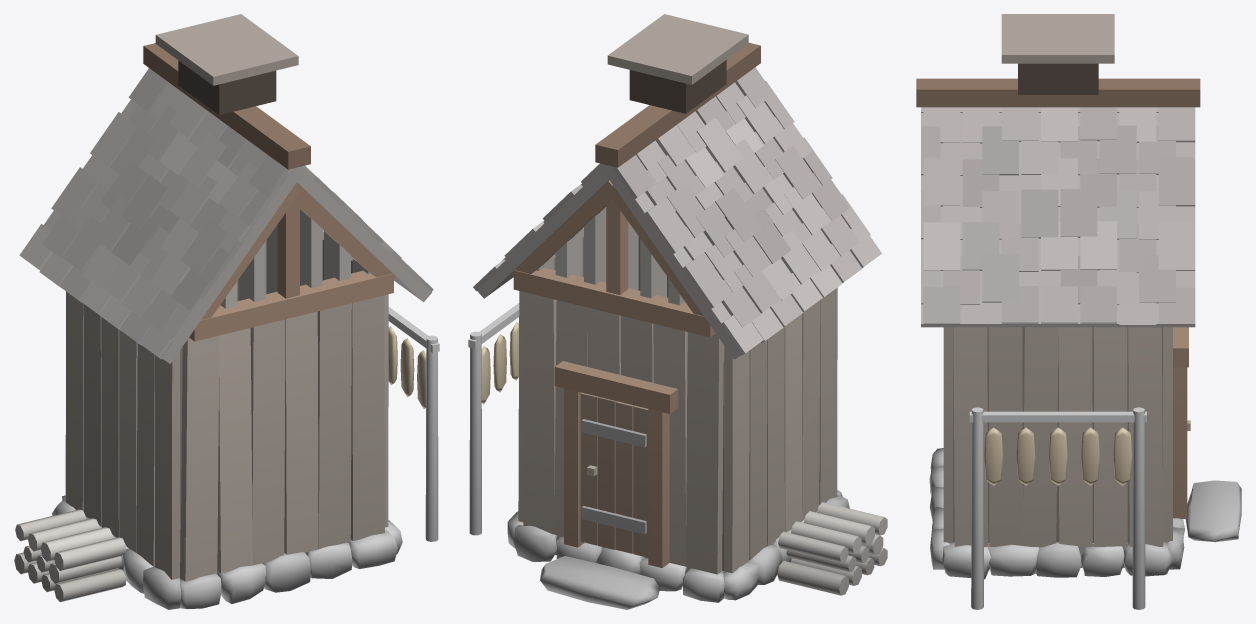
File: hw_smokehouse.glb
3 views of the same model, side by side, from view 1: azimuth 30°, elevation 25°; view 2: azimuth 150°, elevation 25°; view 3: azimuth 270°, elevation 25° (orthographic).
Visible parts, largest first — view 1: Building; view 2: Building; view 3: Building.
Boxes of the visible parts, left/top/right/bottom form: Building: left=14, top=14, right=439, bottom=609; Building: left=468, top=14, right=887, bottom=609; Building: left=916, top=14, right=1241, bottom=609.
Size of the model in its own units: 2.51 by 3.38 by 2.02.
